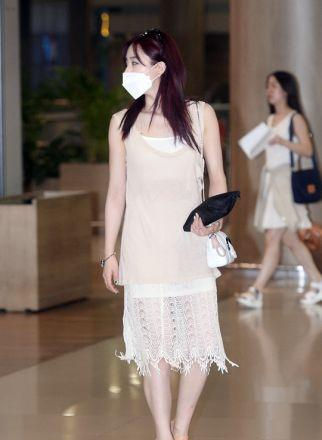NONE: (264, 77, 285, 104)
WRONG: (121, 54, 152, 97)
